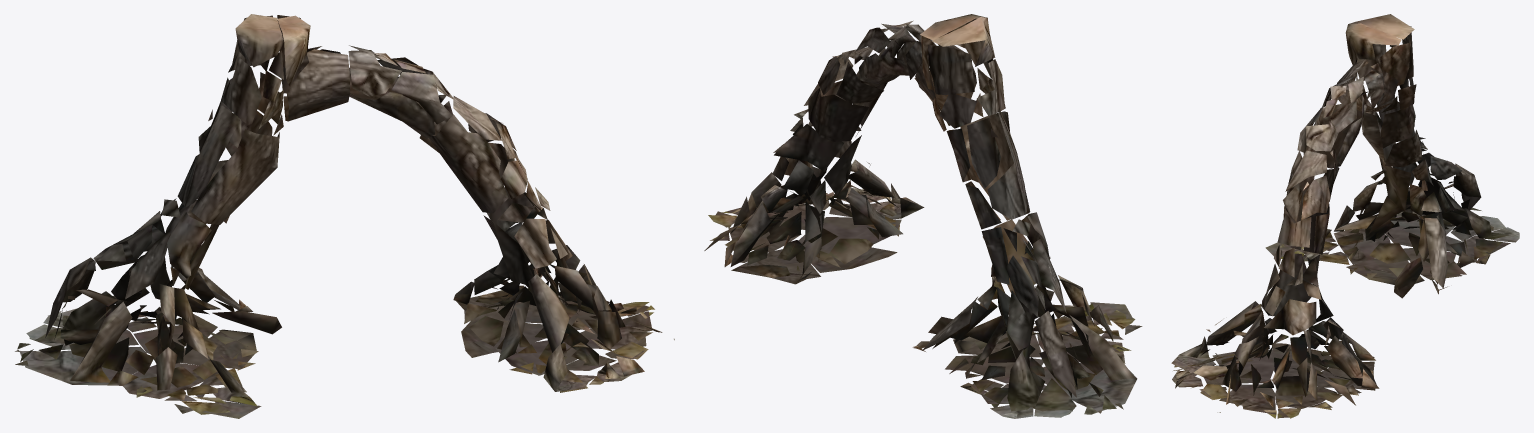
File: radice.glb
3 renders of one model, left to right at view 1: azimuth 30°, elevation 25°; view 2: azimuth 150°, elevation 25°; view 3: azimuth 270°, elevation 25°, orthographic. The views are drawn at different scales.
Visible parts, largest first — view 1: radice; view 2: radice; view 3: radice.
Boxes of the visible parts, x1,y1,x2,y2 form: radice: (15, 14, 674, 418); radice: (704, 14, 1142, 418); radice: (1171, 14, 1519, 418).
Bounding box in the file's own units: 0.9848 × 0.5707 × 0.6669.
1 material, 1 textured.
